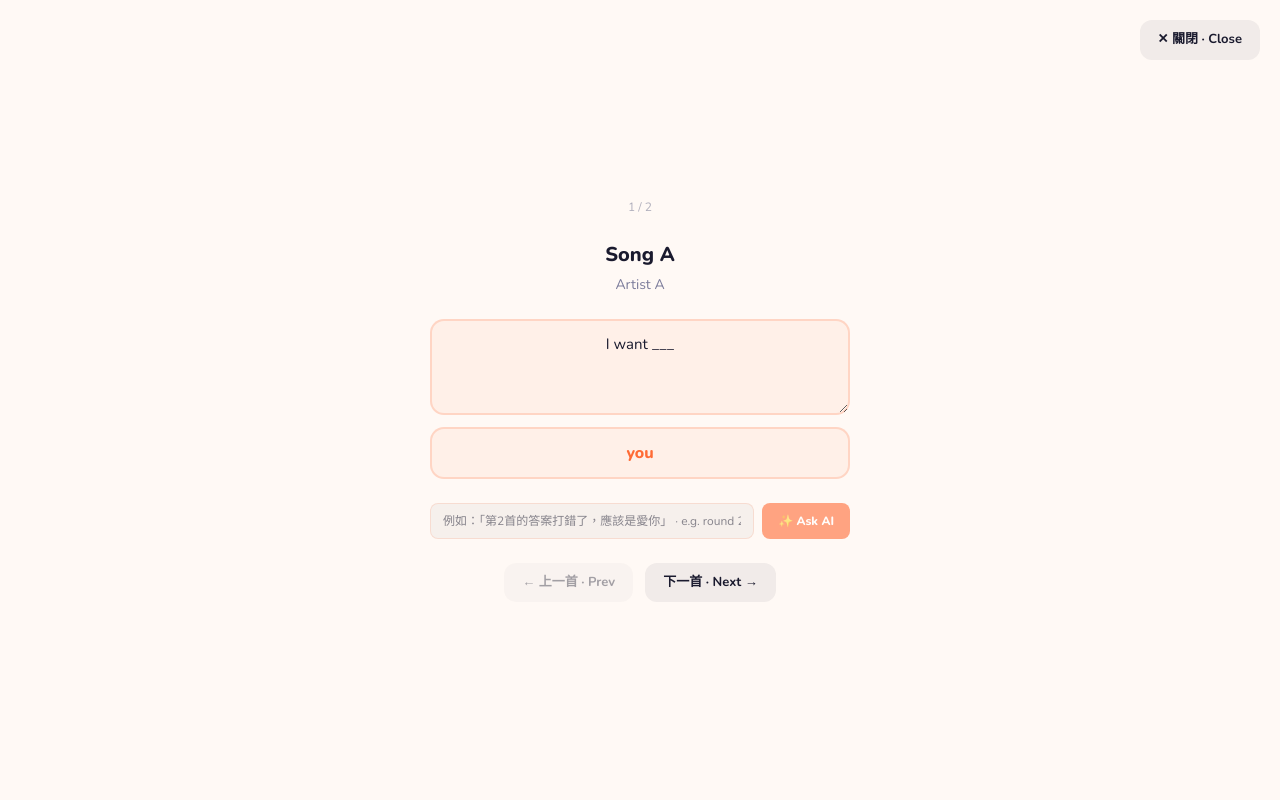
LyricRoundItemEditor (T6, docs/designs/full-page-focus-editor.md) › navigates prev/next without wraparound at the boundaries
Click the button "下一首 · Next →": [710, 582] box [645,562,776,602]
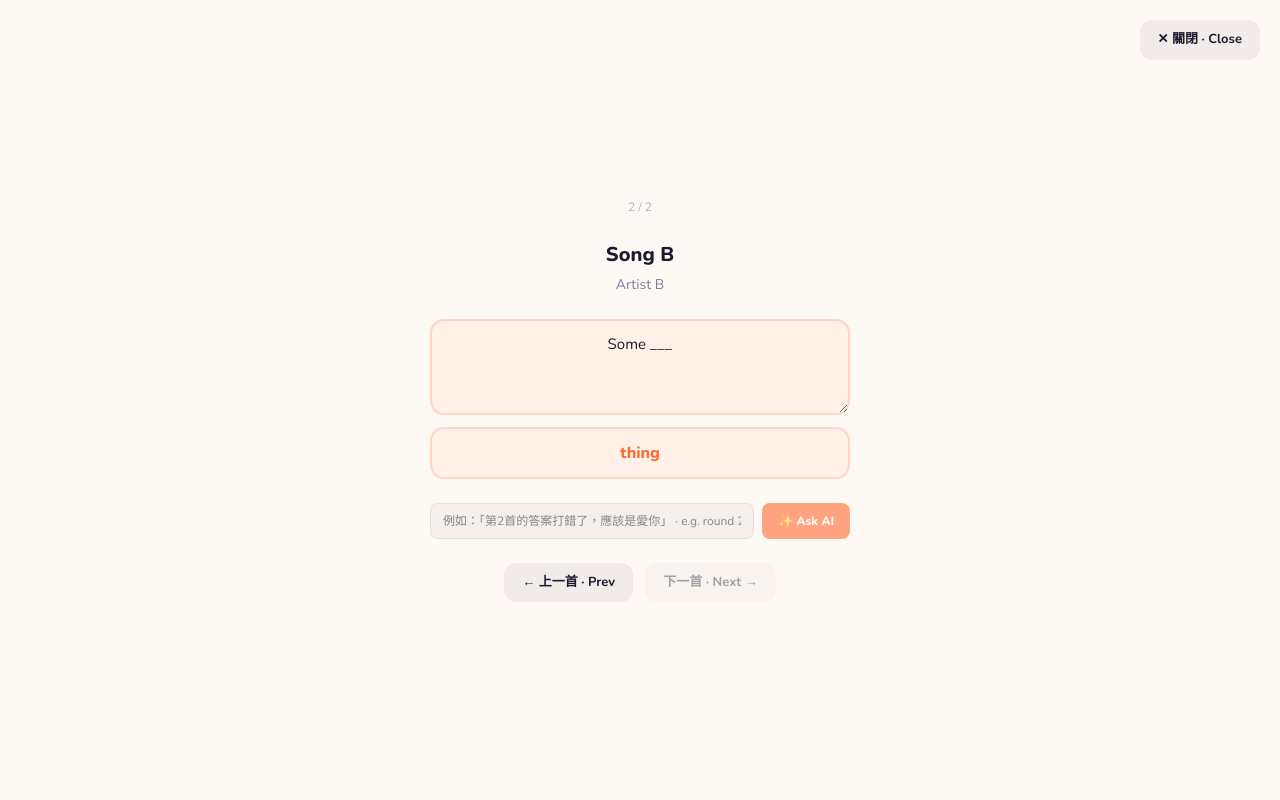
Expected: the text "2 / 2" is shown, [628,198,652,216]
Expected: the button "下一首 · Next →" is disabled, [645,562,776,602]
Click the button "← 上一首 · Prev": [569, 582] box [504,562,633,602]
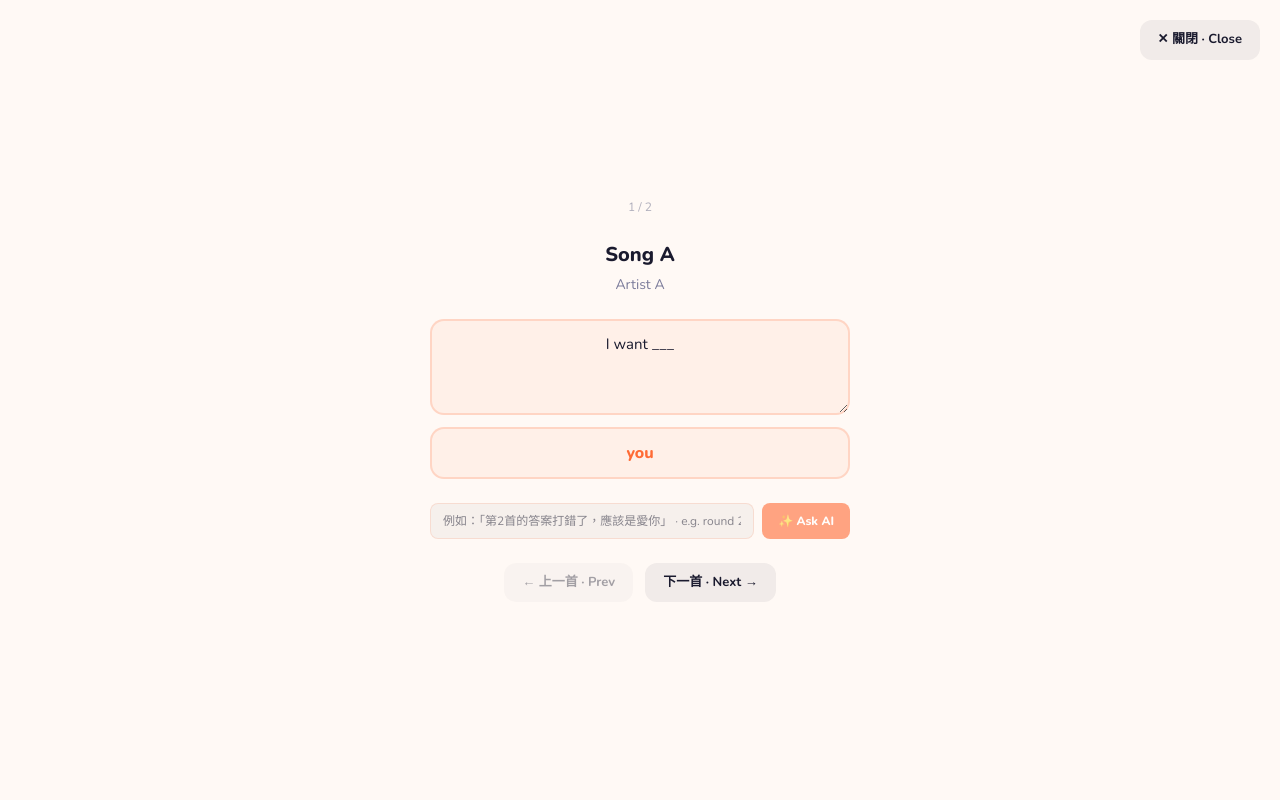
Expected: the text "1 / 2" is shown, [628,198,652,216]
Expected: the button "← 上一首 · Prev" is disabled, [504,562,633,602]
